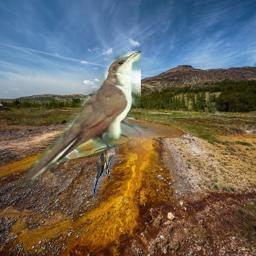Cuckoo: (17, 51, 141, 188), (91, 143, 119, 203)
